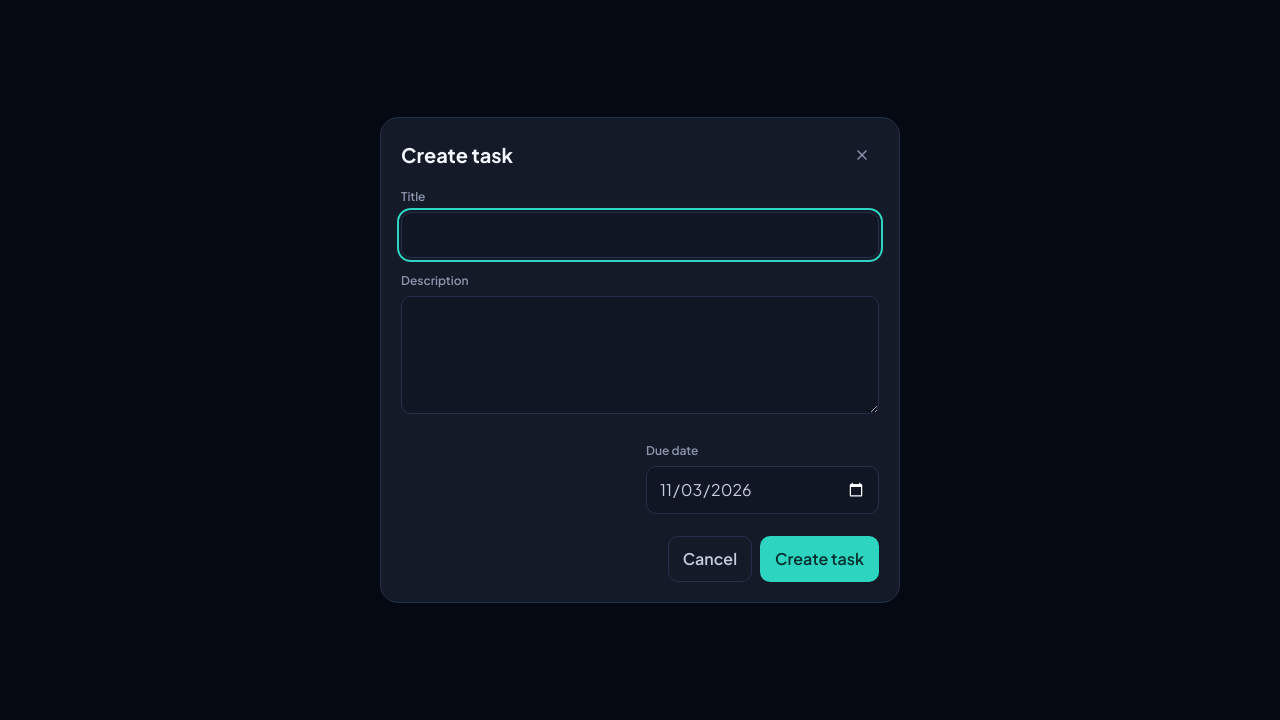
Scenario: TaskModal › blocks submit when the title is empty
Step 1. Click the button "Create task" → (820, 559), box x1=760 y1=536 x2=879 y2=582
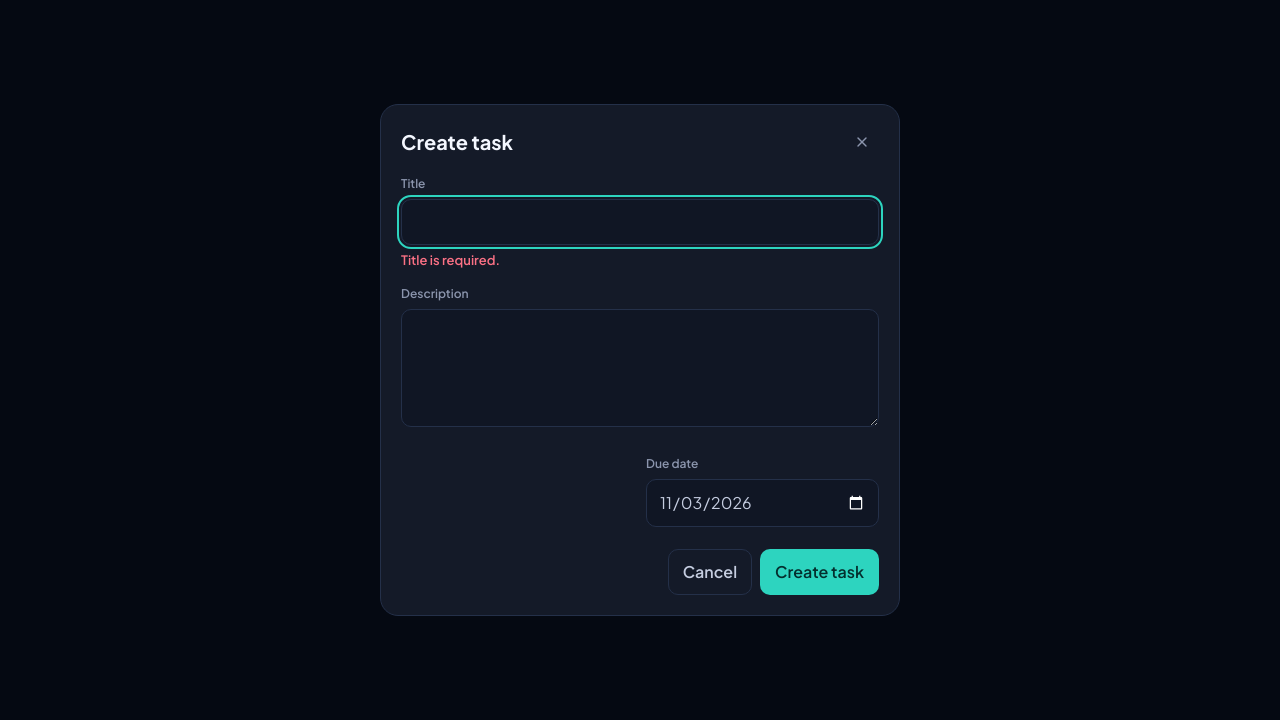
Check: the message reads "Title is required.", box x1=401 y1=252 x2=500 y2=268
